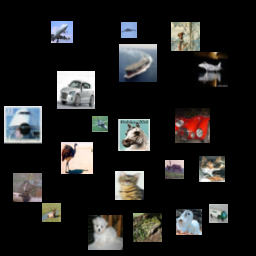airplane: (4, 106, 42, 144), (193, 52, 228, 87), (51, 21, 73, 43), (92, 116, 108, 132), (121, 22, 137, 38)
automobile: (57, 71, 95, 109), (175, 108, 210, 143)
bird: (61, 142, 93, 174)
cat: (115, 171, 144, 200), (199, 156, 225, 182)
deer: (13, 173, 42, 202), (42, 203, 61, 222), (165, 160, 184, 179)
dog: (88, 215, 123, 250), (171, 22, 200, 51), (176, 209, 202, 235)
frog: (133, 213, 162, 242)
ship: (119, 44, 157, 82)
